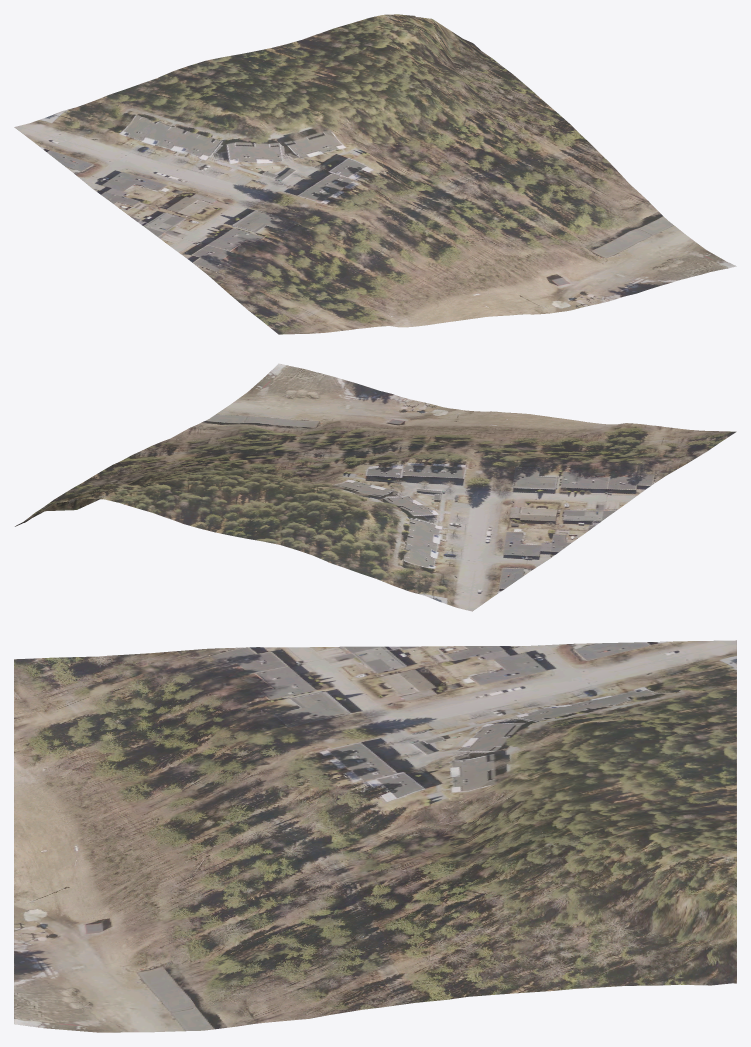
The model's file is CM_Terrain_24491892_6816927.fbx.
The picture shows the model from 3 angles, top to bottom: view 1: azimuth 30°, elevation 25°; view 2: azimuth 150°, elevation 25°; view 3: azimuth 270°, elevation 25°; orthographic projection. The views are drawn at different scales.
Visible parts, largest first — view 1: CM_Terrain_24491892_6816927_LOD0; view 2: CM_Terrain_24491892_6816927_LOD0; view 3: CM_Terrain_24491892_6816927_LOD0.
Part boxes in pixels (x1=…): CM_Terrain_24491892_6816927_LOD0: x1=14, y1=14, x2=736, y2=334; CM_Terrain_24491892_6816927_LOD0: x1=15, y1=363, x2=736, y2=611; CM_Terrain_24491892_6816927_LOD0: x1=14, y1=640, x2=736, y2=1032.
Size of what is drawn, in the model's own units: 205 by 36.73 by 205.
